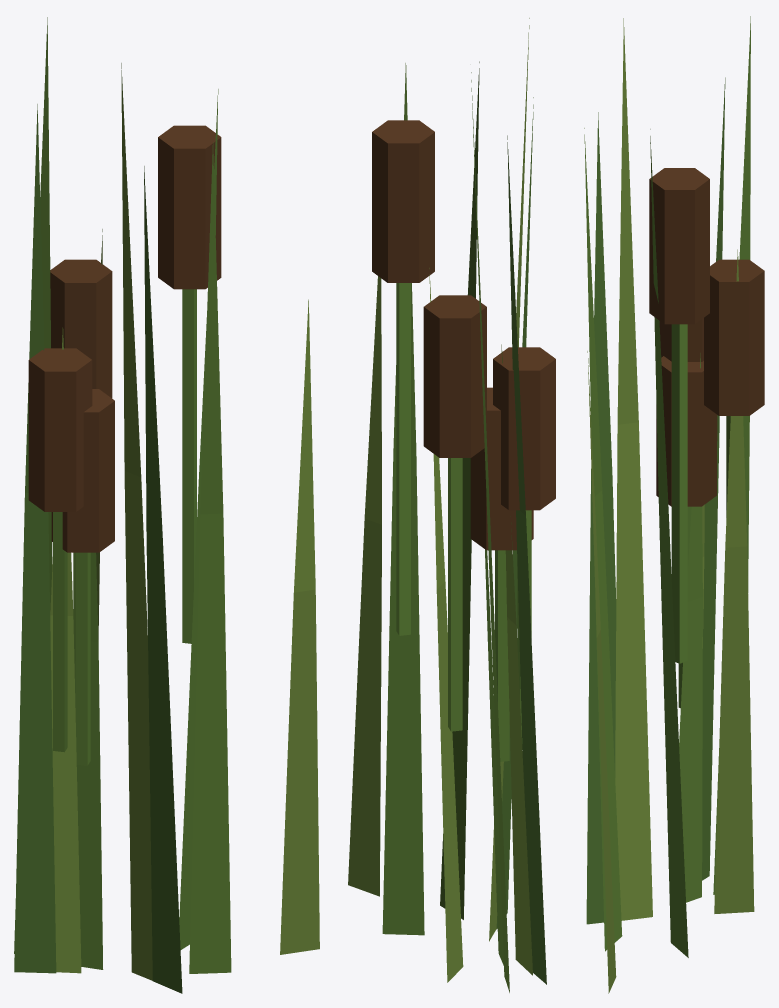
File: Reeds.glb
3 views of the same model, side by side, from view 1: azimuth 30°, elevation 25°; view 2: azimuth 150°, elevation 25°; view 3: azimuth 270°, elevation 25° (orthographic). The views are drawn at different scales.
Parts seen in each view (by area): view 1: Reeds; view 2: Reeds; view 3: Reeds.
Part boxes in pixels (x1,y1,x2,y2): Reeds: [14, 17, 319, 993]; Reeds: [348, 18, 555, 992]; Reeds: [584, 16, 764, 993].
Bounding box in the file's own units: 0.4144 × 1.45 × 0.2675.
